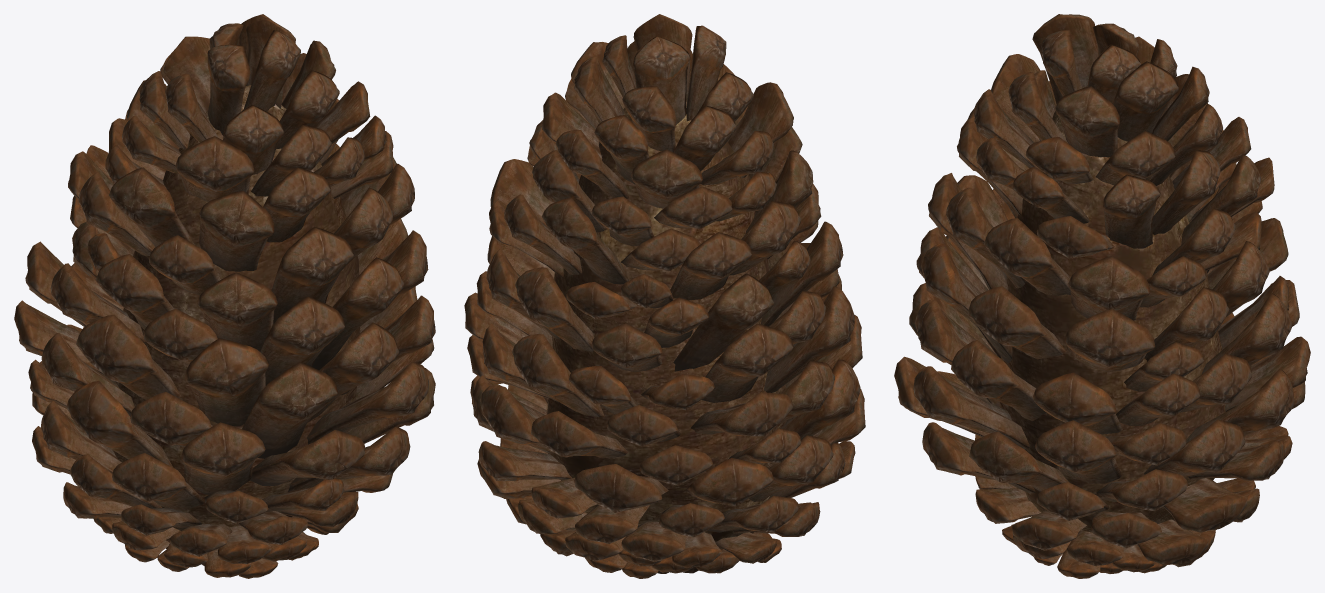
3 views of the same model, side by side, from view 1: azimuth 30°, elevation 25°; view 2: azimuth 150°, elevation 25°; view 3: azimuth 270°, elevation 25° (orthographic).
Visible parts, largest first — view 1: pine_cone.1; view 2: pine_cone.1; view 3: pine_cone.1.
Boxes of the visible parts, x1=… form: pine_cone.1: x1=14, y1=14, x2=435, y2=578; pine_cone.1: x1=464, y1=14, x2=865, y2=578; pine_cone.1: x1=894, y1=14, x2=1310, y2=578.
Size of the model in its own units: 0.0327 by 0.0464 by 0.0329.
Materials: 1 (1 with a texture image).
